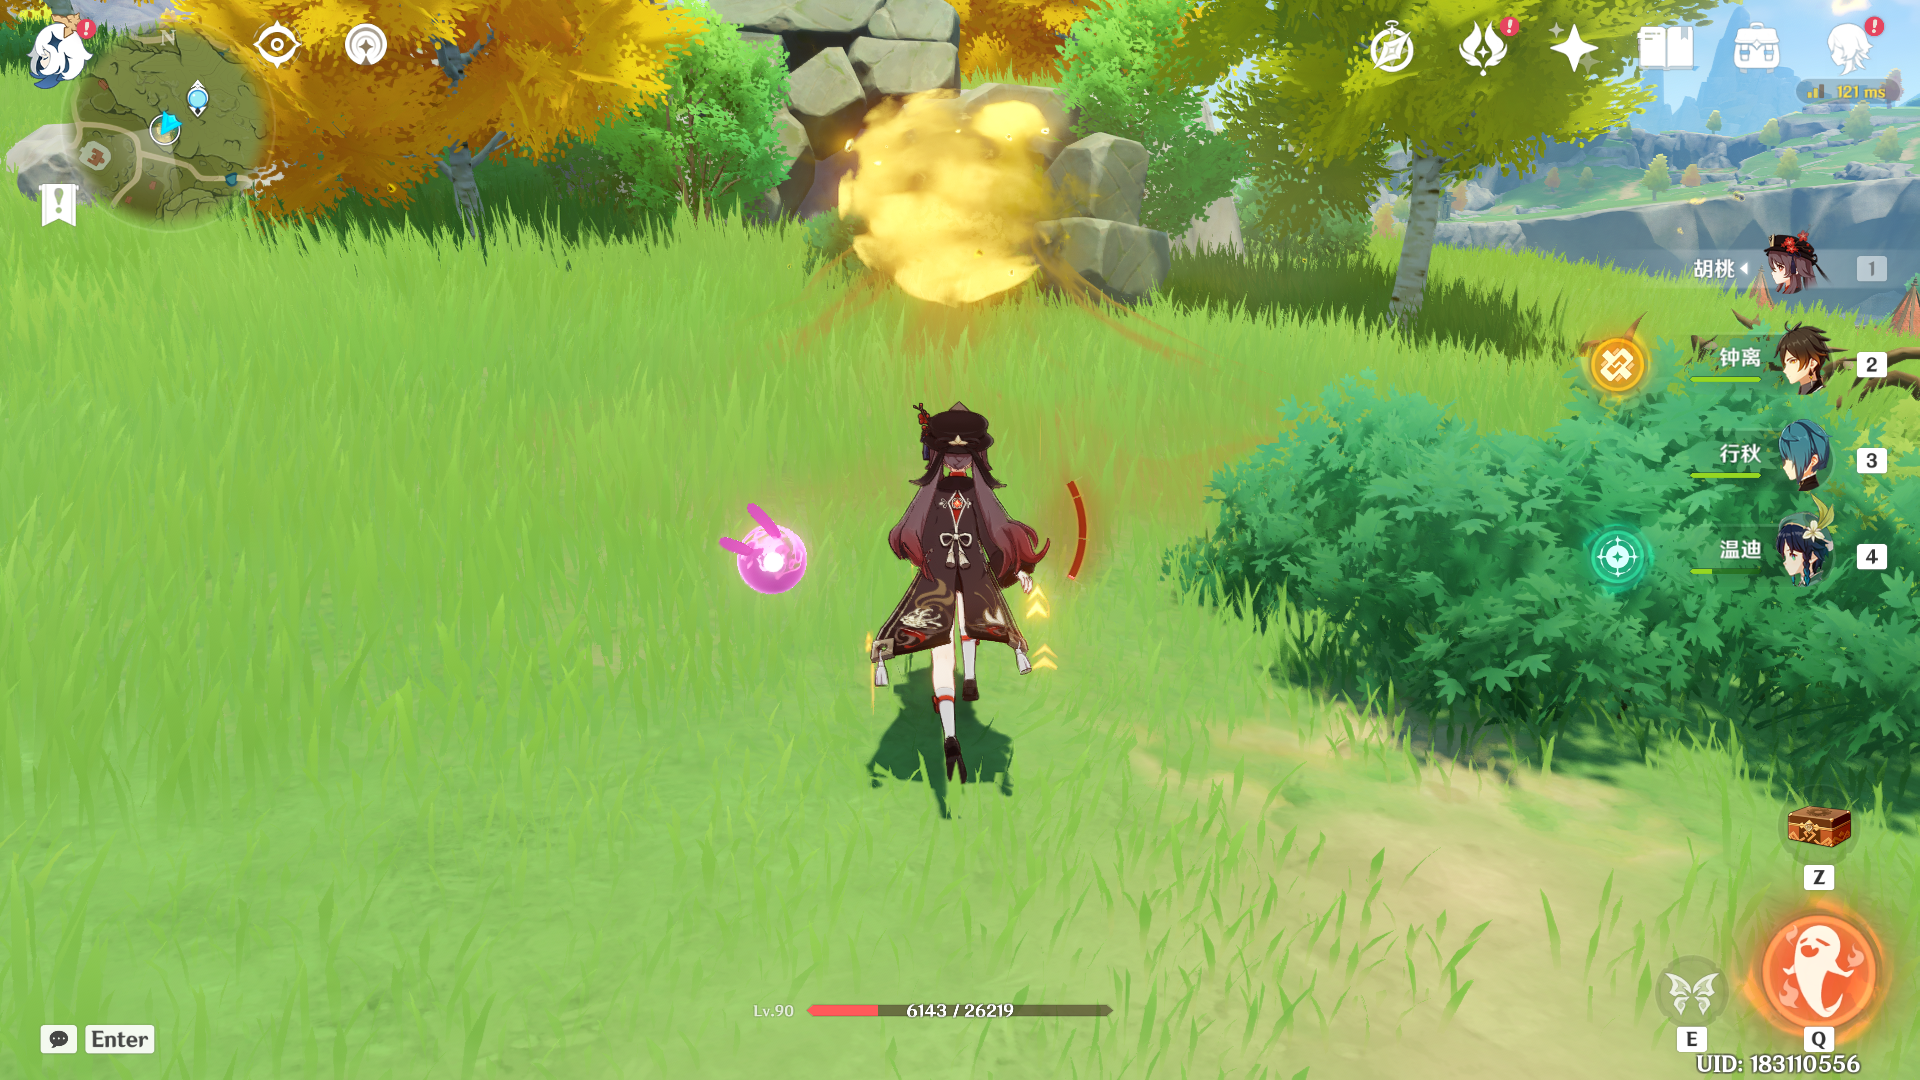character: (827, 310, 1163, 807)
